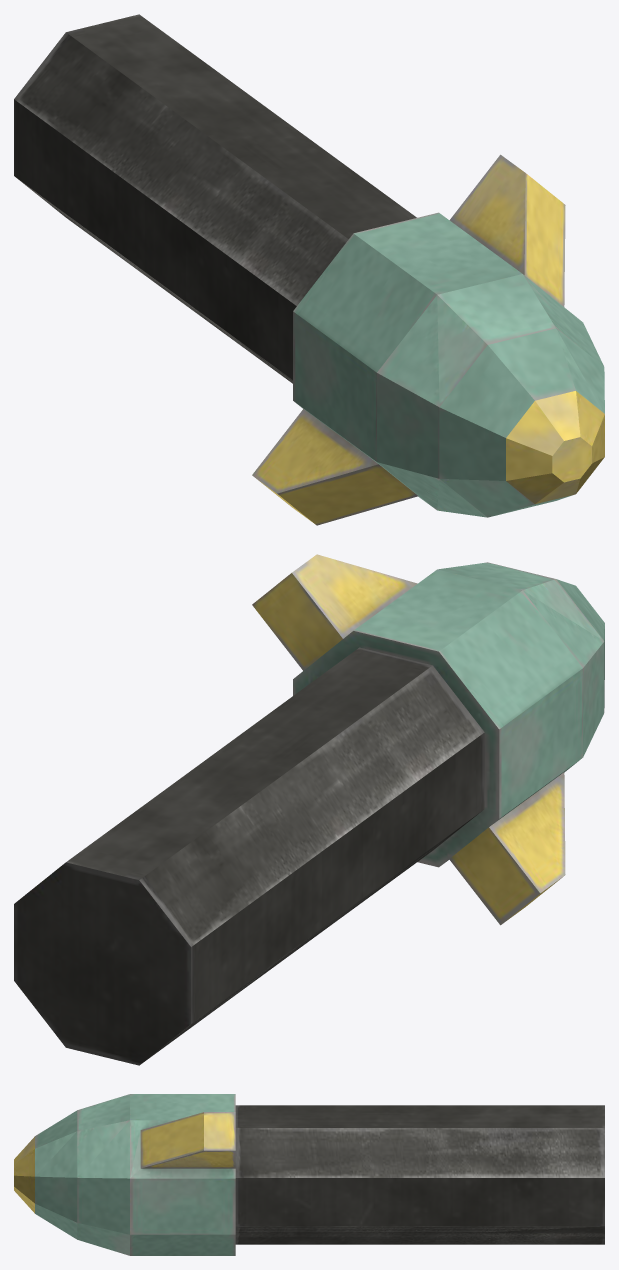
The model's file is ammo_rocketModern.glb.
3 views of the same model, one above another, from view 1: azimuth 30°, elevation 25°; view 2: azimuth 150°, elevation 25°; view 3: azimuth 270°, elevation 25° (orthographic). The views are drawn at different scales.
Parts seen in each view (by area): view 1: ammo_rocketModern; view 2: ammo_rocketModern; view 3: ammo_rocketModern.
Part boxes in pixels (x1,y1,x2,y2): ammo_rocketModern: [14, 14, 604, 525]; ammo_rocketModern: [14, 554, 604, 1065]; ammo_rocketModern: [14, 1094, 604, 1255].
Bounding box in the file's own units: 0.076 × 0.076 × 0.2144.
1 material, 1 textured.
